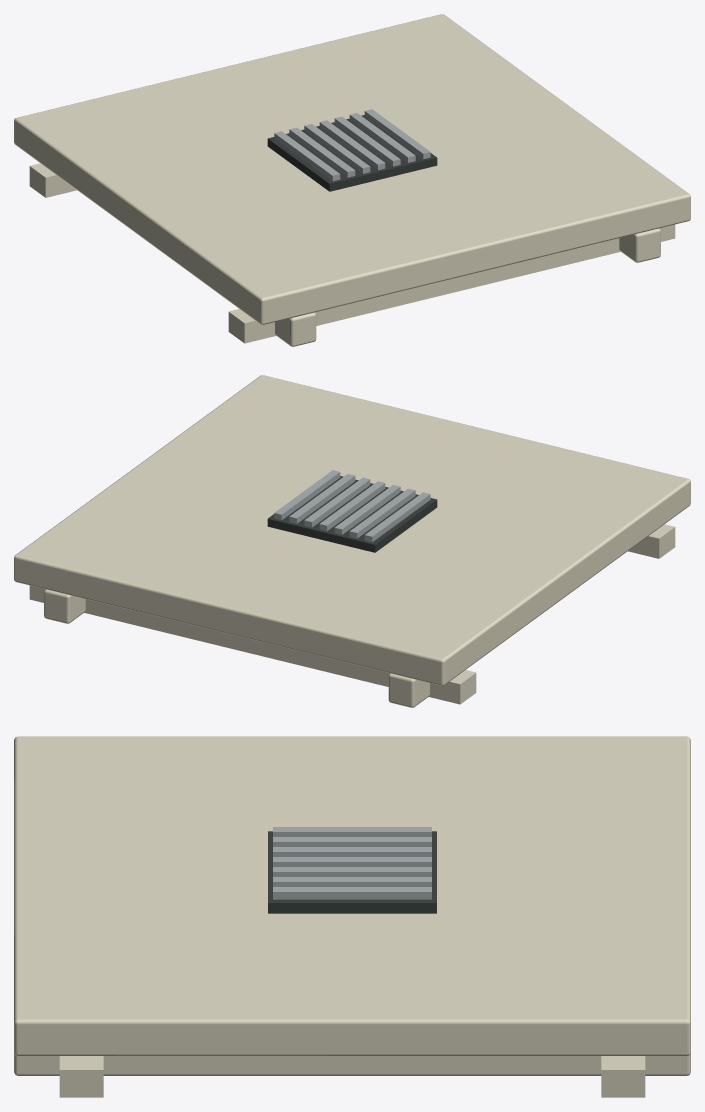
File: bunker-shelter-construction-shelter-drain-floor-ce677eeb__23292.glb
3 renders of one model, top to bottom at view 1: azimuth 30°, elevation 25°; view 2: azimuth 150°, elevation 25°; view 3: azimuth 270°, elevation 25°, orthographic. The views are drawn at different scales.
Visible parts, largest first — view 1: shelter-drain-floor; view 2: shelter-drain-floor; view 3: shelter-drain-floor.
Part boxes in pixels (box(x1,y1,x2,y2)): shelter-drain-floor: box(14, 14, 690, 346); shelter-drain-floor: box(14, 375, 690, 707); shelter-drain-floor: box(14, 736, 690, 1097).
Size of the model in its own units: 2 by 0.31 by 2.
